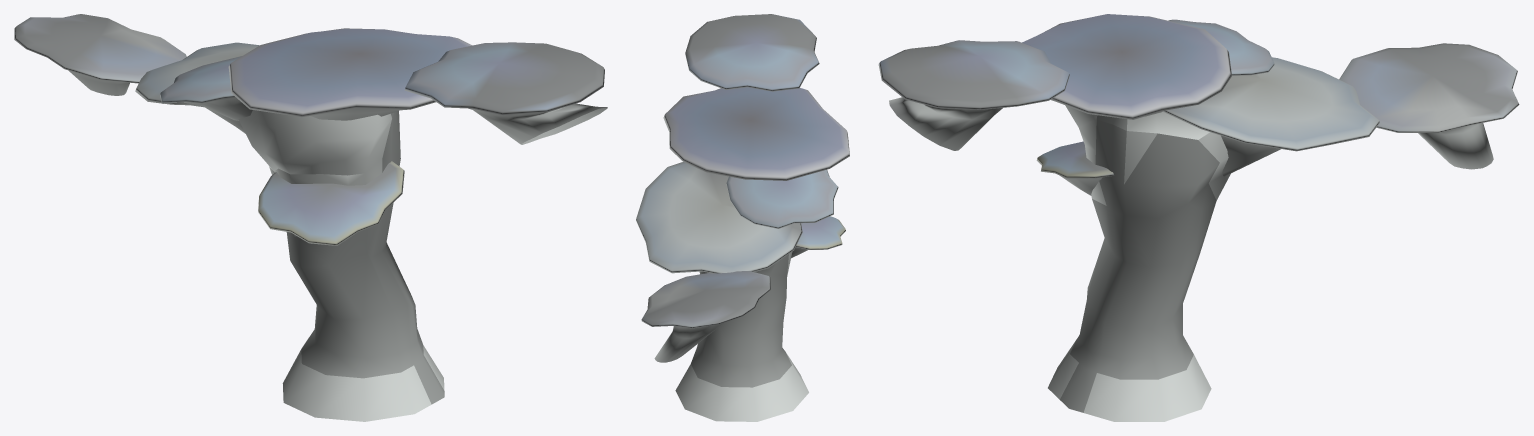
The picture shows the model from 3 angles, left to right: view 1: azimuth 30°, elevation 25°; view 2: azimuth 150°, elevation 25°; view 3: azimuth 270°, elevation 25°; orthographic projection. The views are drawn at different scales.
Visible parts, largest first — view 1: G:\FFXIV-MapTools\exports\n4f6\bg\ex3\01_nvt_n4\fld\n4f6\bgp (×5); view 2: G:\FFXIV-MapTools\exports\n4f6\bg\ex3\01_nvt_n4\fld\n4f6\bgp (×5); view 3: G:\FFXIV-MapTools\exports\n4f6\bg\ex3\01_nvt_n4\fld\n4f6\bgp (×5).
Boxes of the visible parts, left/top/right/bottom form: G:\FFXIV-MapTools\exports\n4f6\bg\ex3\01_nvt_n4\fld\n4f6\bgp (×5): left=14, top=14, right=607, bottom=421; G:\FFXIV-MapTools\exports\n4f6\bg\ex3\01_nvt_n4\fld\n4f6\bgp (×5): left=636, top=14, right=849, bottom=421; G:\FFXIV-MapTools\exports\n4f6\bg\ex3\01_nvt_n4\fld\n4f6\bgp (×5): left=878, top=14, right=1519, bottom=421.
Size of the model in its own units: 26.17 by 29.23 by 46.58.
